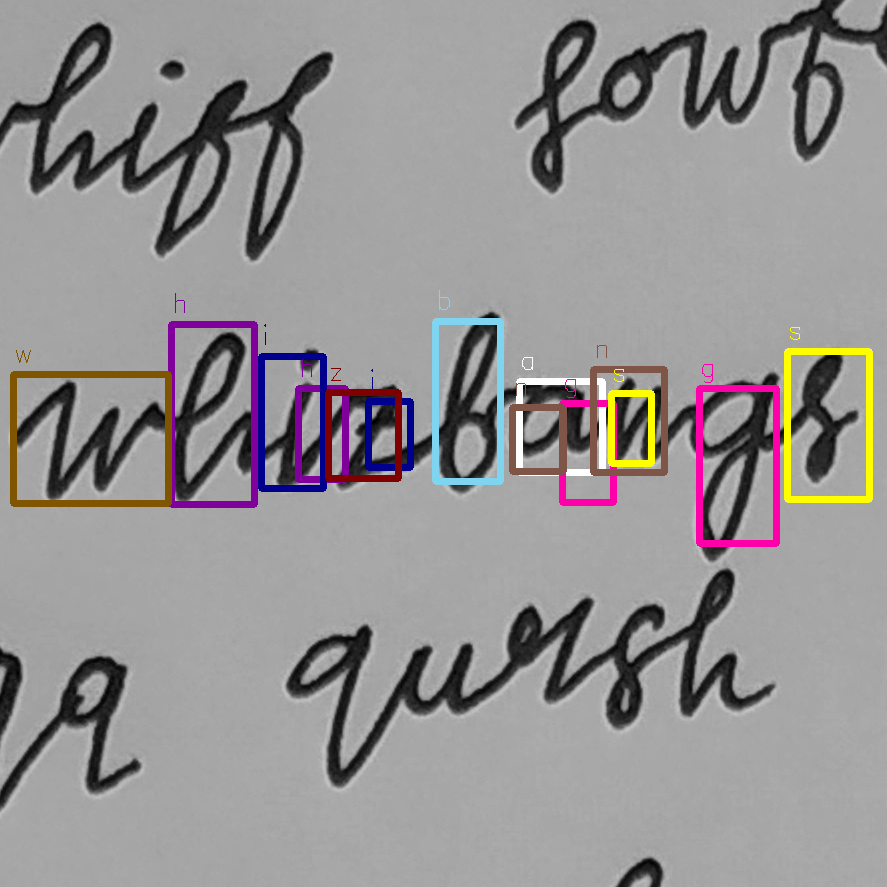a: (508, 372, 591, 469)
b: (432, 304, 507, 497)
g: (680, 367, 782, 565)
h: (166, 325, 265, 506)
i: (270, 340, 326, 496)
n: (599, 372, 671, 472)
s: (796, 344, 864, 489)
w: (35, 376, 159, 502)
z: (331, 380, 414, 489)
